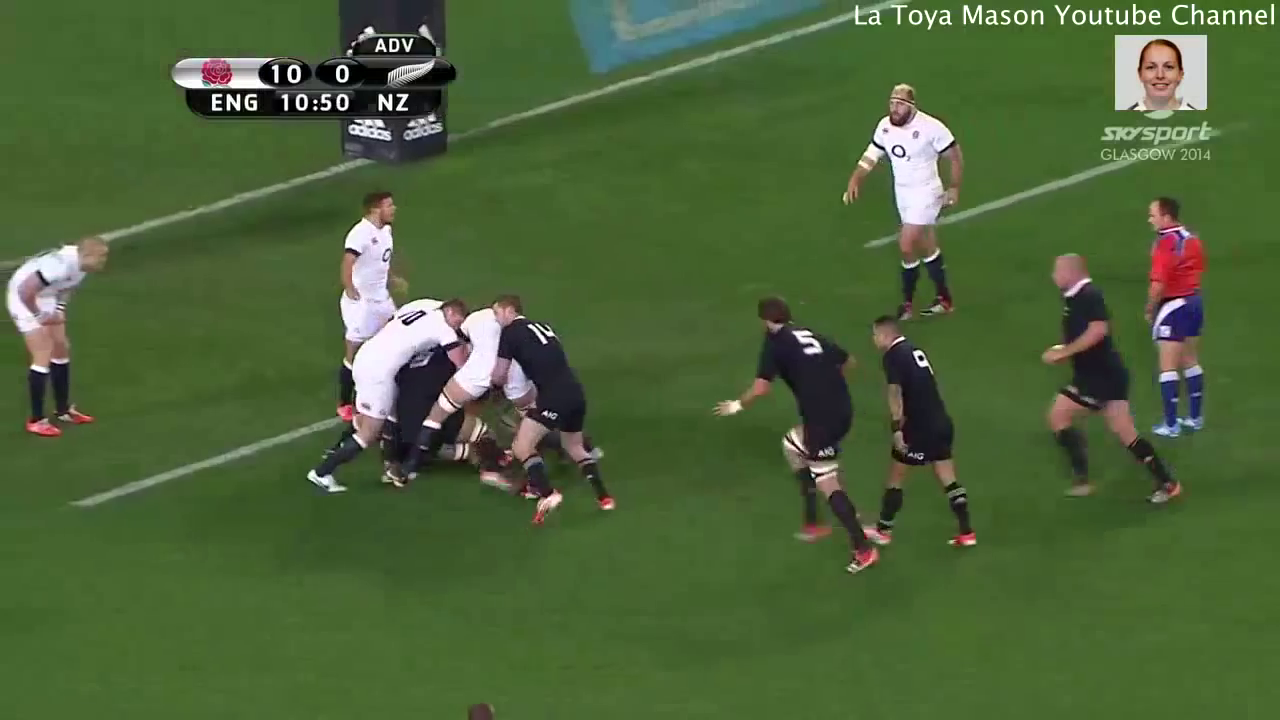player: (701, 285, 880, 580), (1023, 246, 1193, 524), (821, 72, 969, 332), (846, 297, 991, 561), (300, 288, 470, 507), (482, 289, 622, 530), (1, 223, 121, 448), (1117, 193, 1221, 440), (325, 179, 402, 438)
